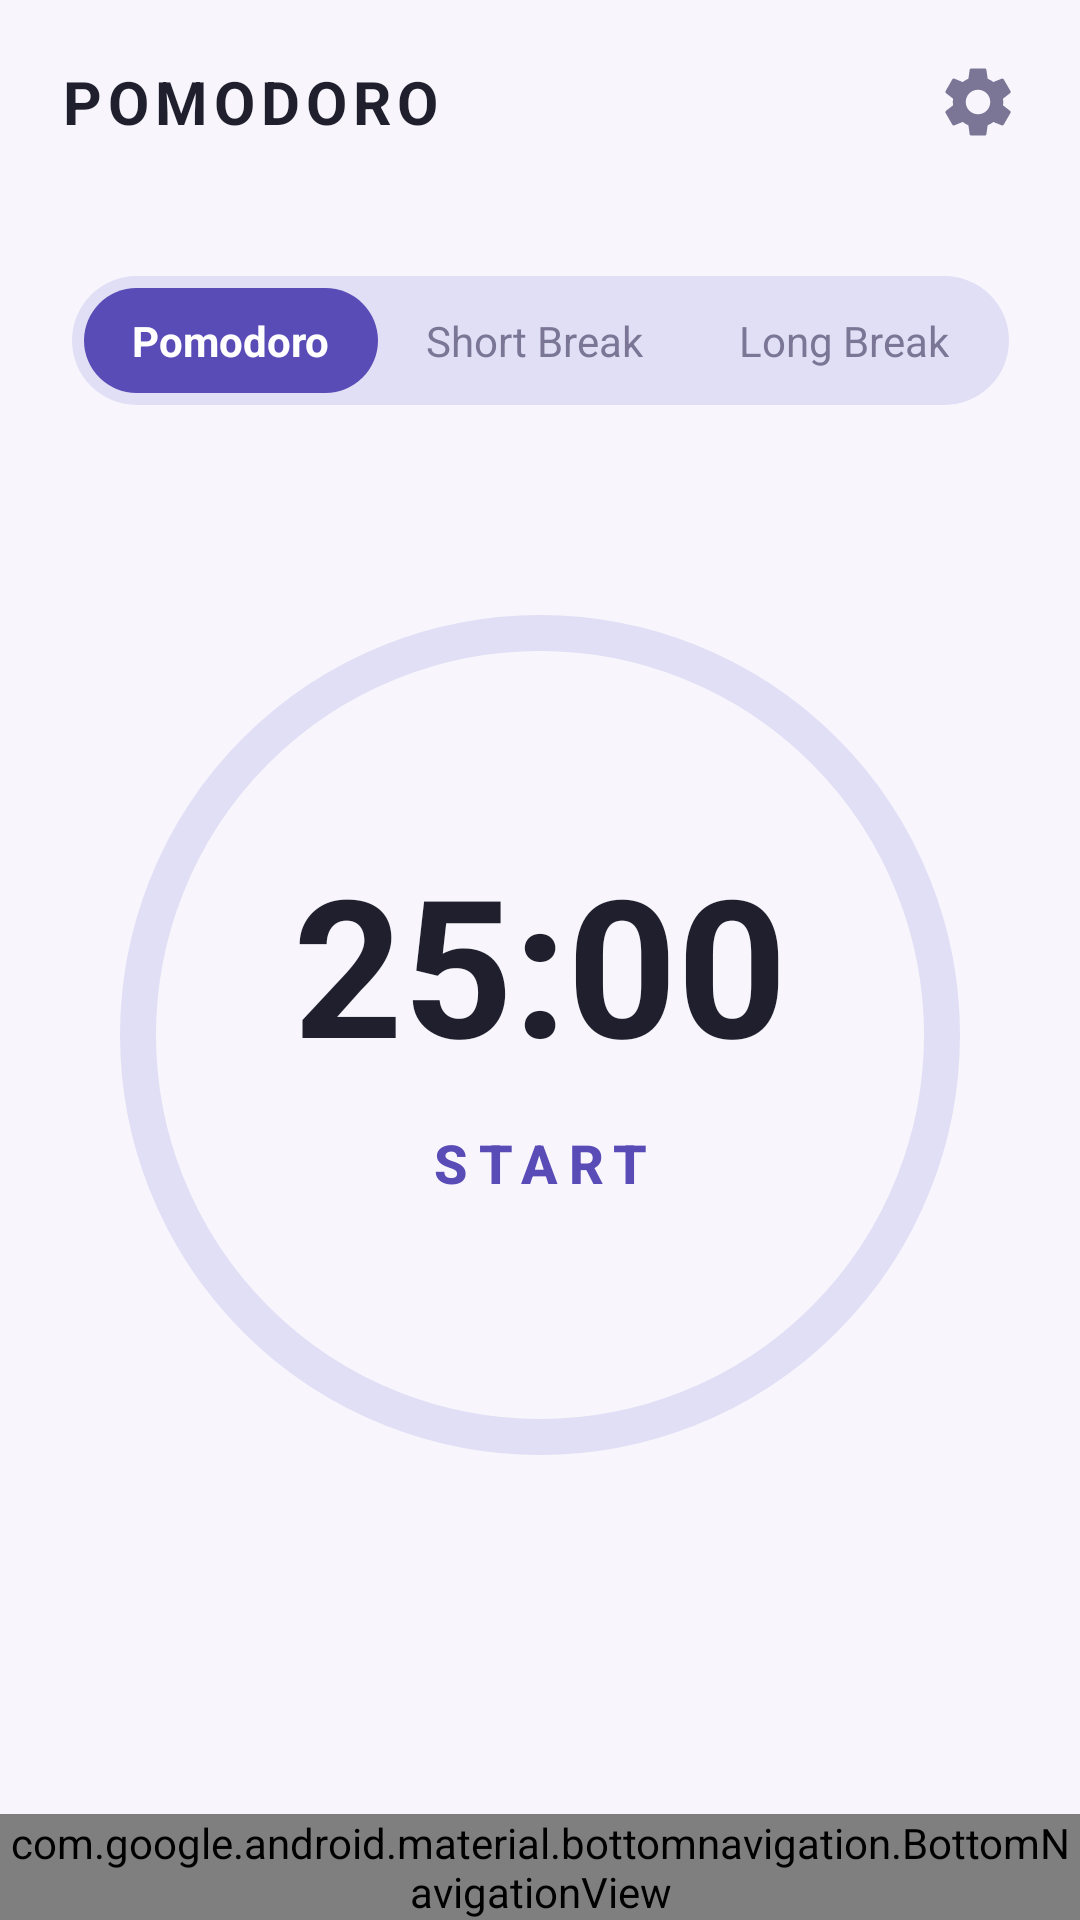

Point at icon controls on the screen. Image size 1080 x 1920, points as [x,y].
settings: [978,102]
